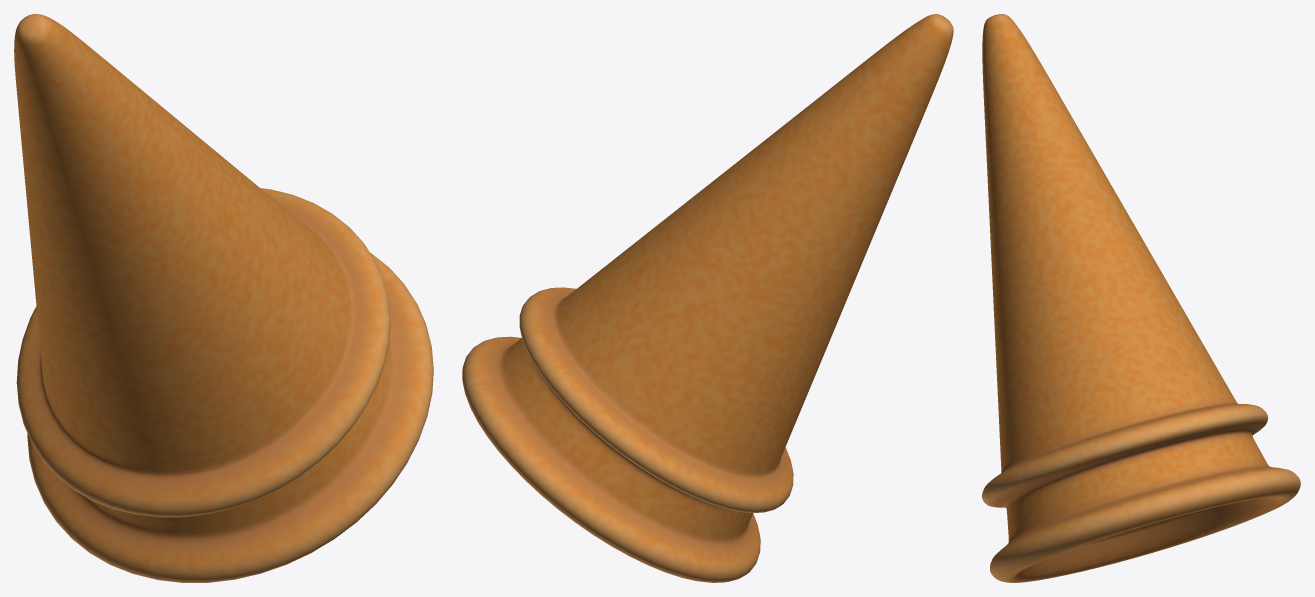
3 renders of one model, left to right at view 1: azimuth 30°, elevation 25°; view 2: azimuth 150°, elevation 25°; view 3: azimuth 270°, elevation 25°, orthographic. The views are drawn at different scales.
Parts seen in each view (by area): view 1: Cylinder.415; view 2: Cylinder.415; view 3: Cylinder.415.
Part boxes in pixels (bbox=[...]): Cylinder.415: bbox=[14, 14, 433, 582]; Cylinder.415: bbox=[462, 14, 953, 582]; Cylinder.415: bbox=[982, 14, 1300, 582].
Size of the model in its own units: 1.78 by 2.33 by 1.37.
1 material, 1 textured.
